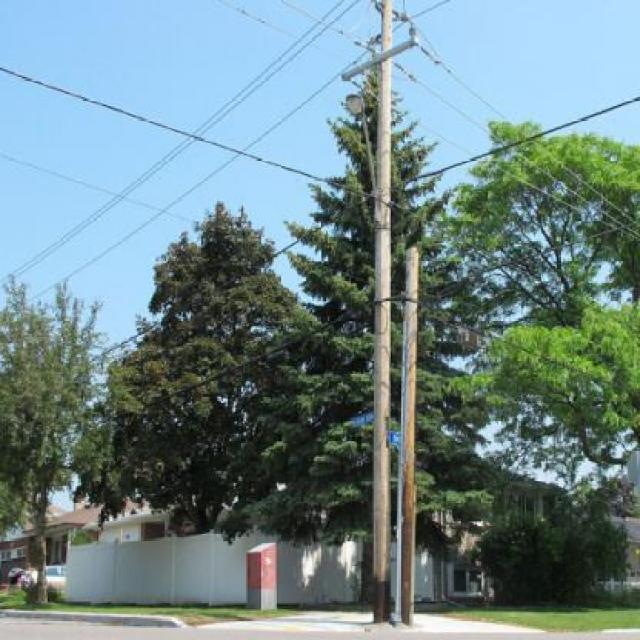pole: (344, 4, 416, 621)
